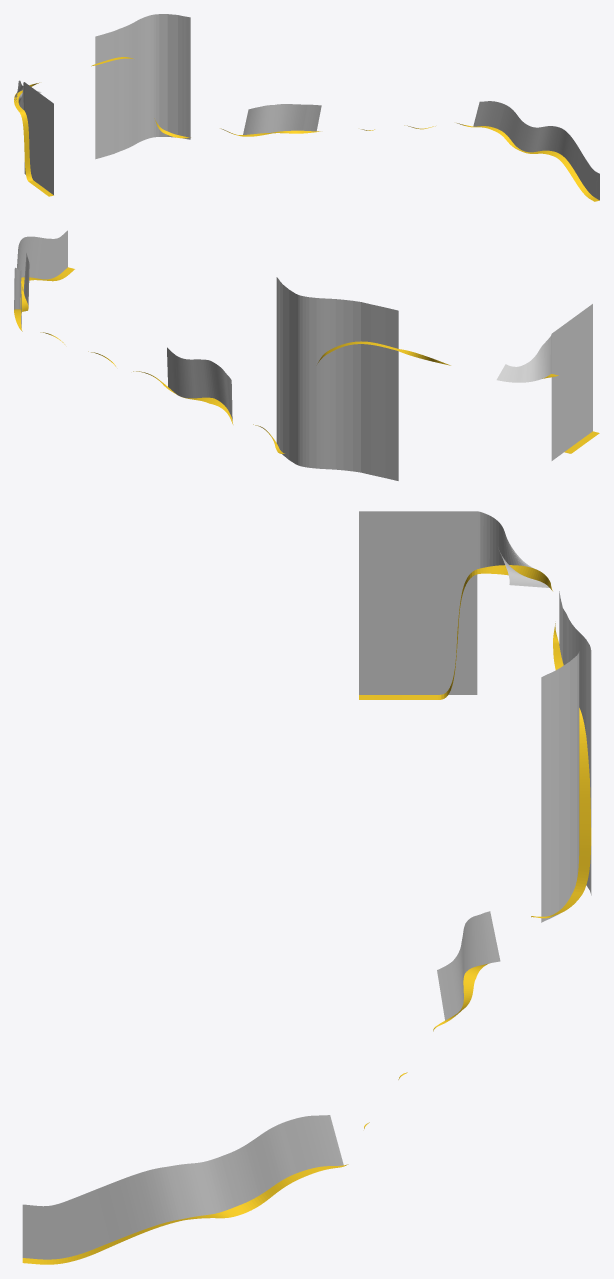
Rendered from SkyRoad02.gltf.
3 renders of one model, top to bottom at view 1: azimuth 30°, elevation 25°; view 2: azimuth 150°, elevation 25°; view 3: azimuth 270°, elevation 25°, orthographic. The views are drawn at different scales.
Parts seen in each view (by area): view 1: SkyRoadWall02, SkyRoad02; view 2: SkyRoadWall02, SkyRoad02; view 3: SkyRoadWall02, SkyRoad02.
Part boxes in pixels (x1,y1,x2,y2): SkyRoadWall02: (14, 14, 599, 200); SkyRoad02: (14, 57, 599, 201); SkyRoadWall02: (14, 230, 592, 480); SkyRoad02: (14, 267, 599, 453); SkyRoadWall02: (22, 511, 591, 1259); SkyRoad02: (22, 565, 591, 1264).
Size of the model in its own units: 354 by 114 by 187.
